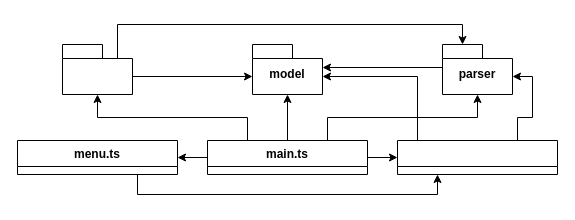
The diagram is 575 pixels wide and 220 high, and some of its shapes have lost their labels. The box of each missing label's shape, as (x1, y1, x2, y2) in pixels:
service: (62, 44, 132, 94)
utils.ts: (396, 140, 558, 174)
